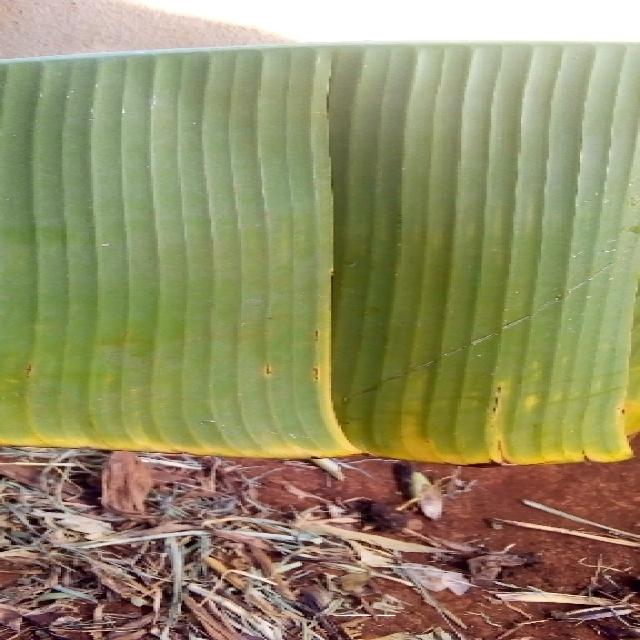Cordana: (6, 167, 640, 513)
